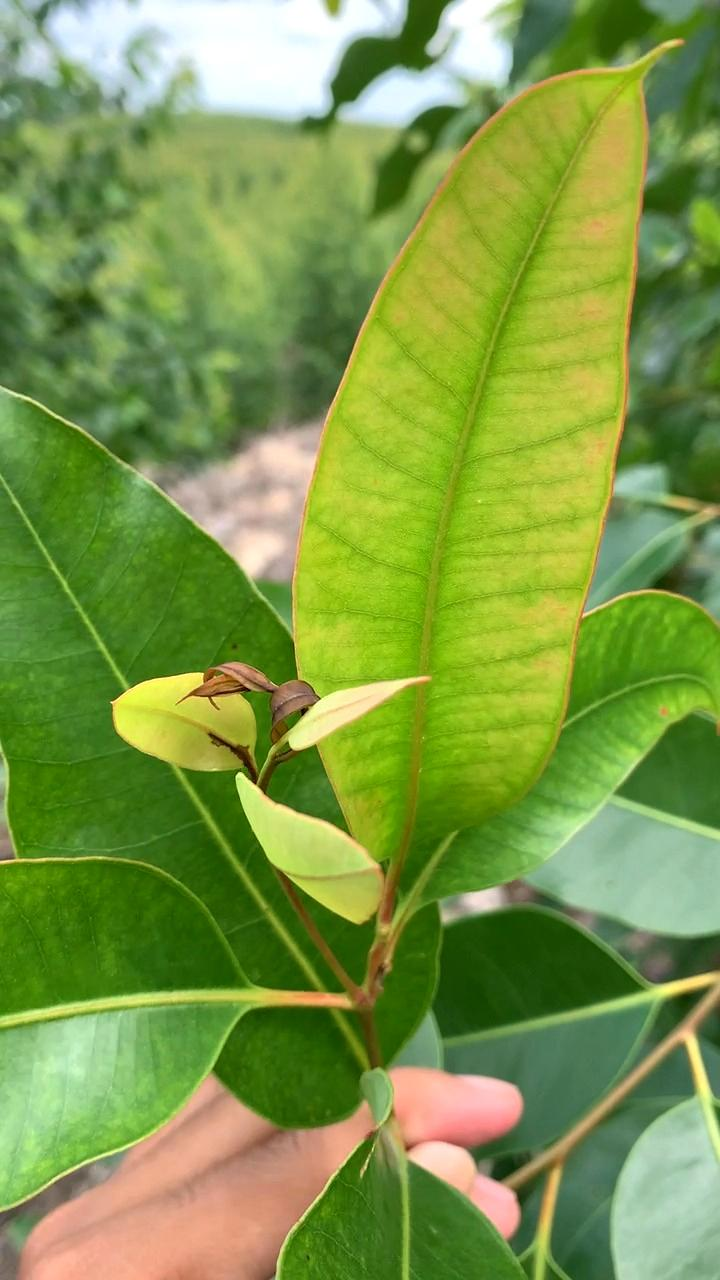Helopeltis-Withered Sprout: (182, 656, 334, 768)
